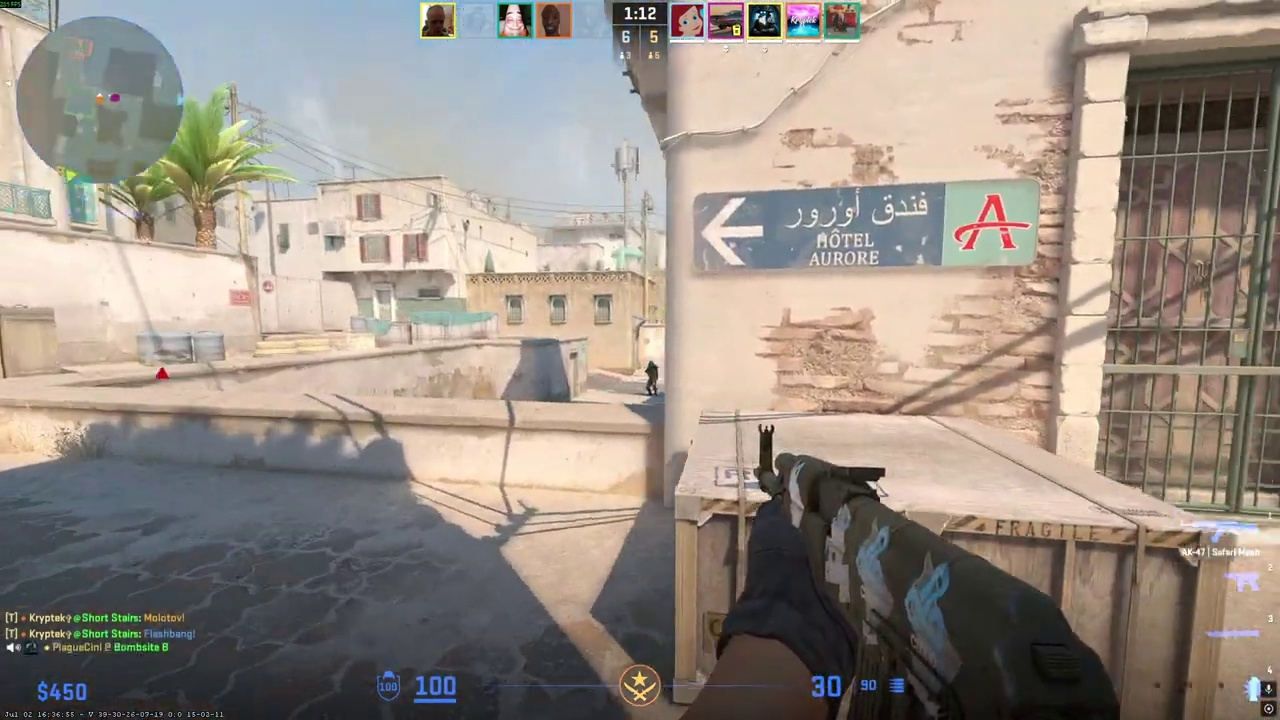CT: (644, 361, 658, 396)
